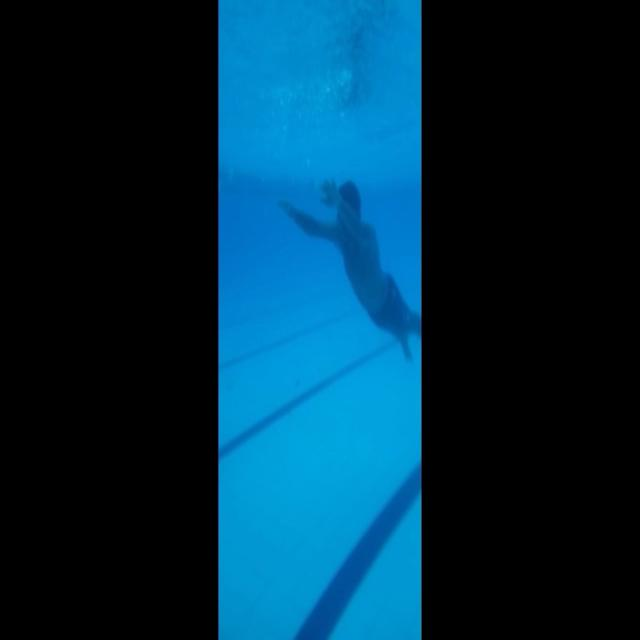drowning: (260, 147, 421, 377)
